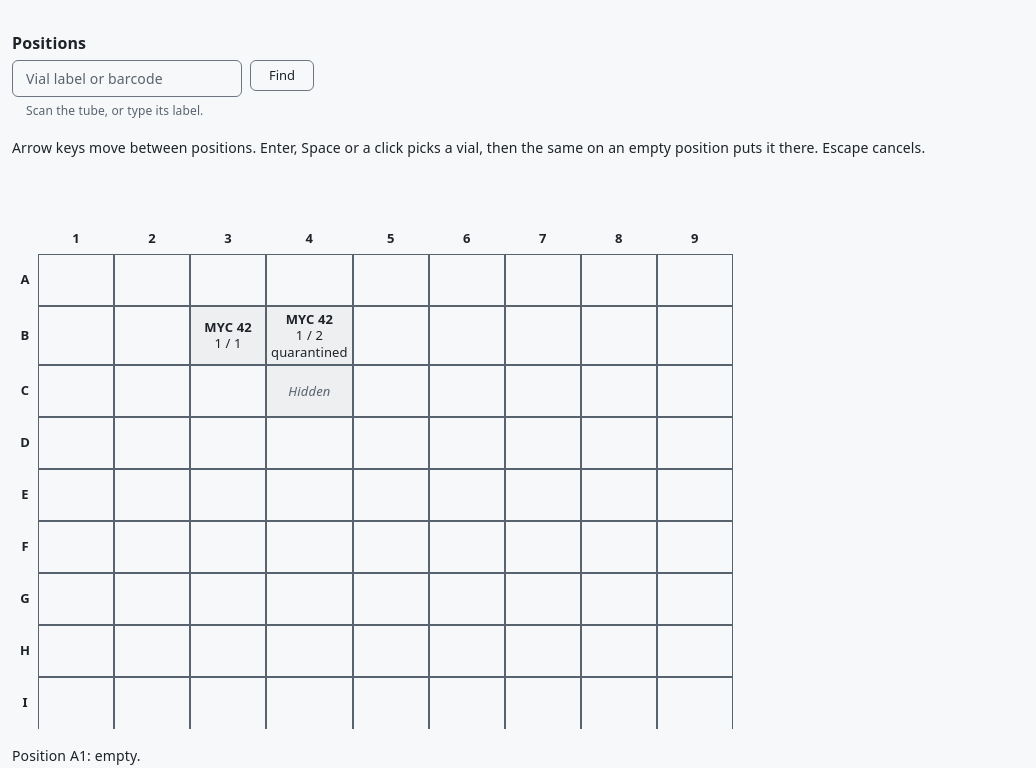
Test: BoxPositions › a click picks the vial and a click on an empty position places it
Expected: the table is shown, x1=12 y1=222 x2=733 y2=729
Click the cell named "B3,".
click(228, 335)  # box x1=190 y1=306 x2=266 y2=365
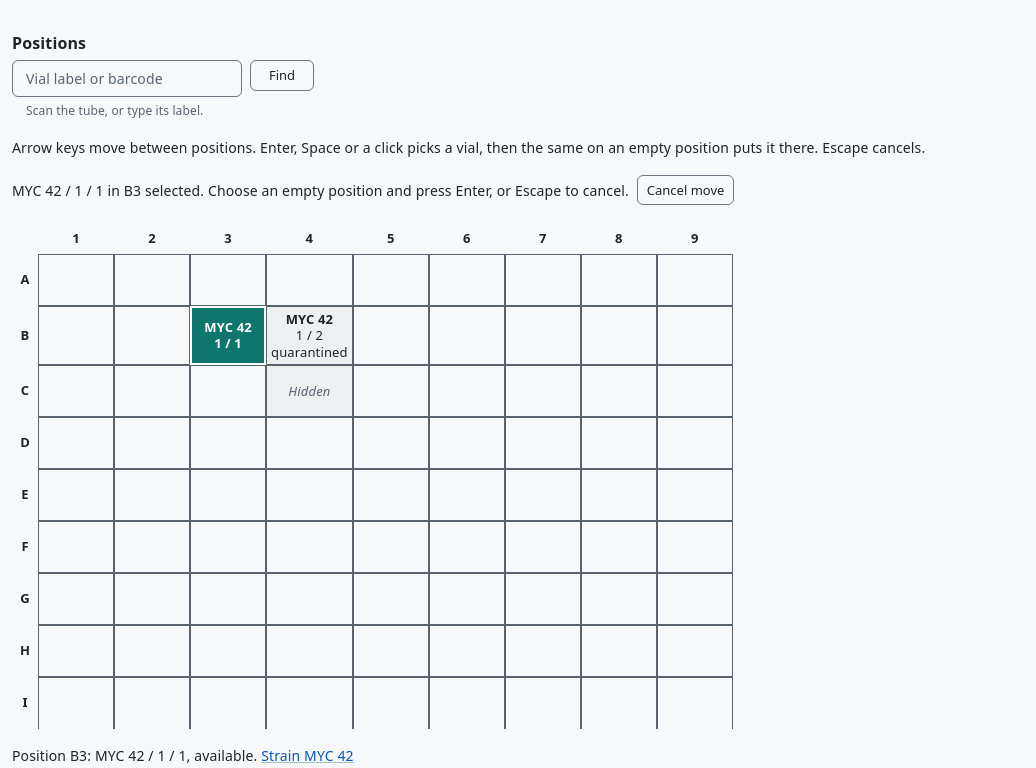
Click the cell named "A9, empty".
click(695, 280)  # box x1=657 y1=254 x2=733 y2=306
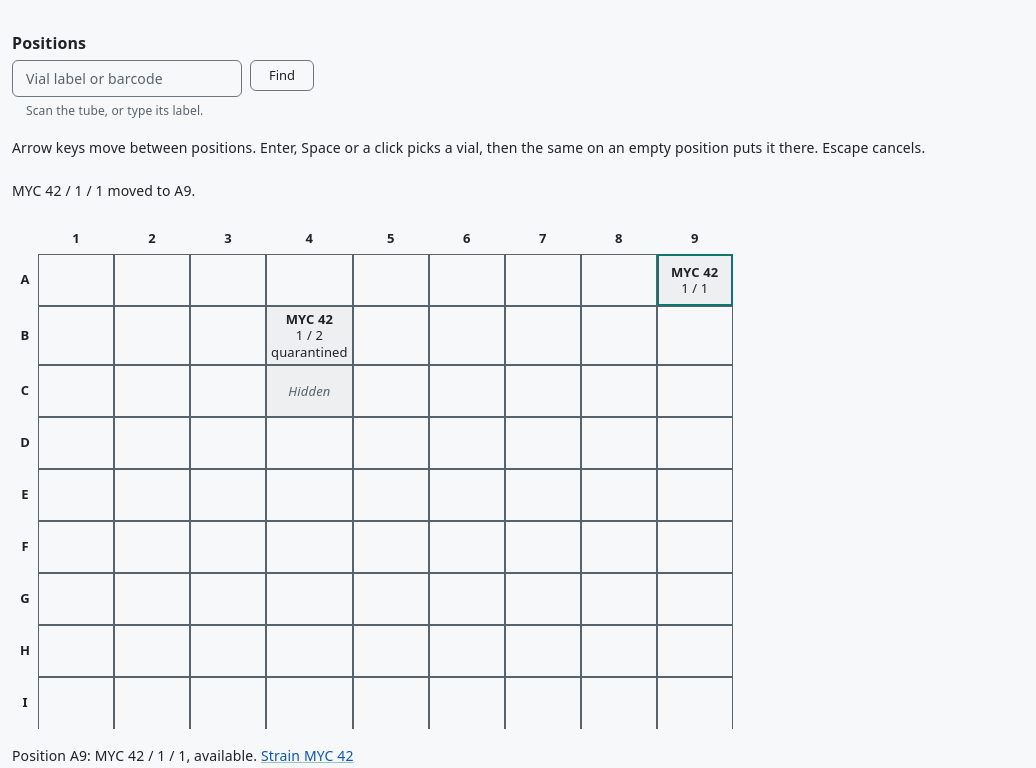
Expected: the text "MYC 42 / 1 / 1 moved to A9." is shown, x1=12 y1=180 x2=195 y2=200
